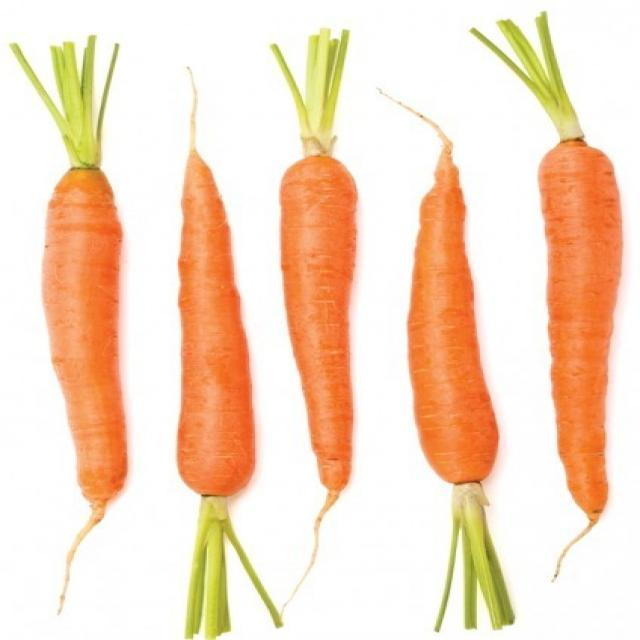Carrot: (528, 142, 640, 580), (30, 164, 136, 522), (402, 140, 506, 486), (272, 150, 367, 497), (170, 153, 262, 502)
